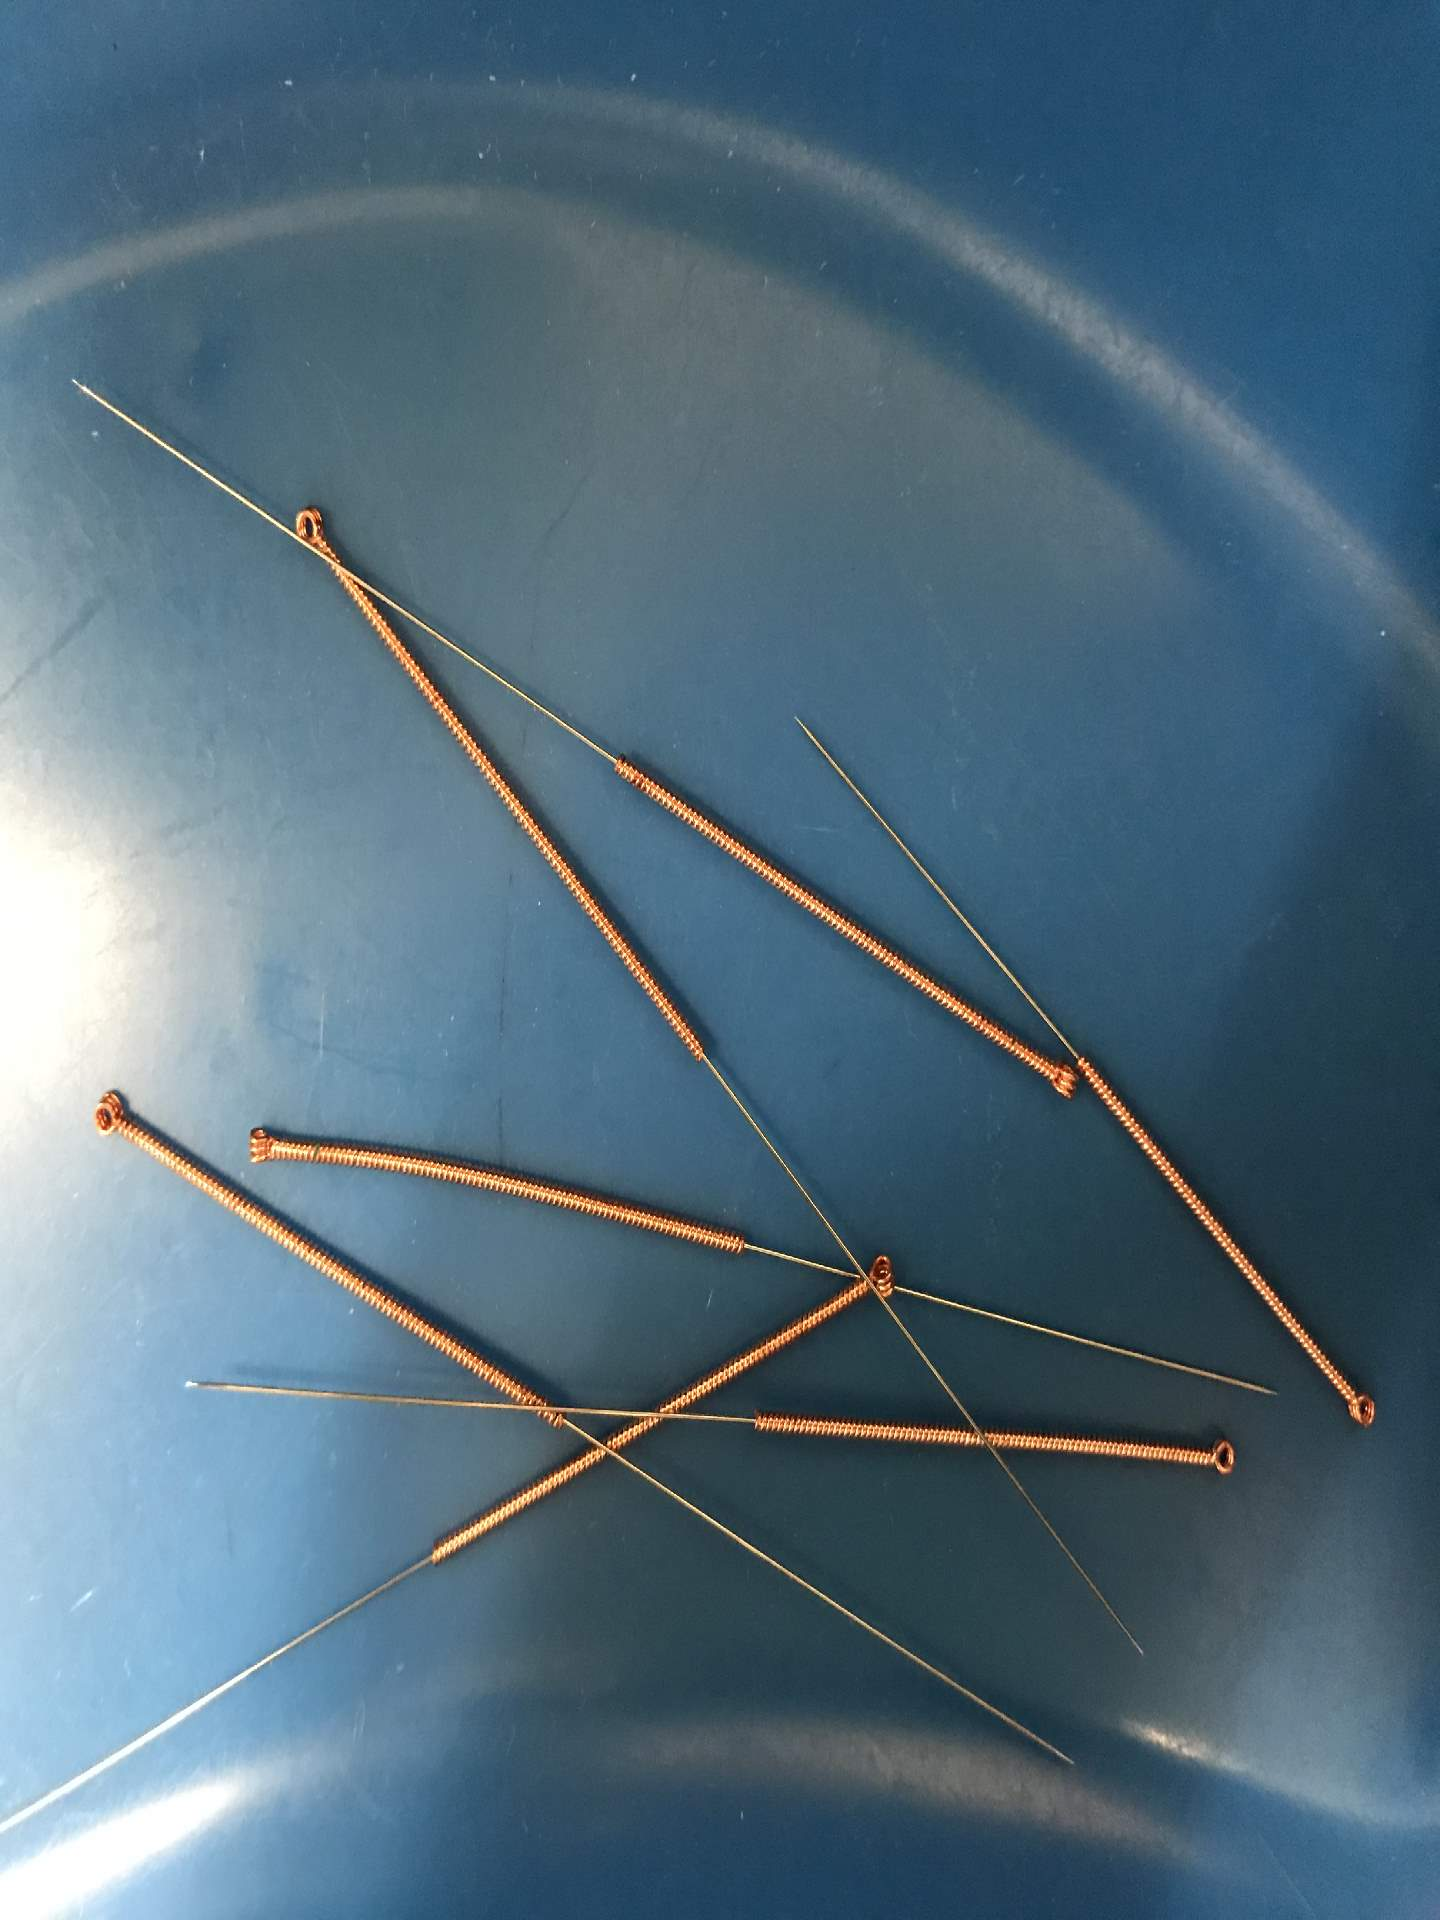needle: (281, 491, 343, 571), (79, 1082, 141, 1152), (844, 1246, 911, 1306), (1189, 1429, 1248, 1494), (231, 1111, 287, 1176), (1333, 1377, 1386, 1442), (1030, 1054, 1085, 1116)
